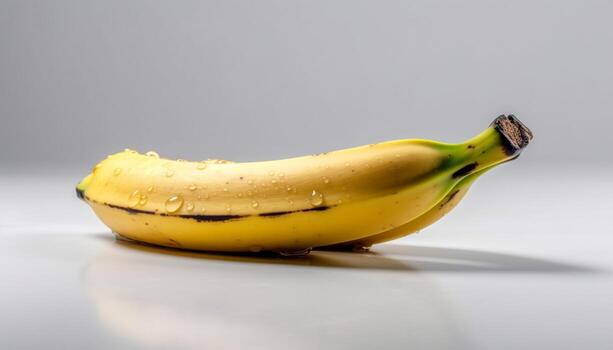banana: (74, 111, 535, 265)
